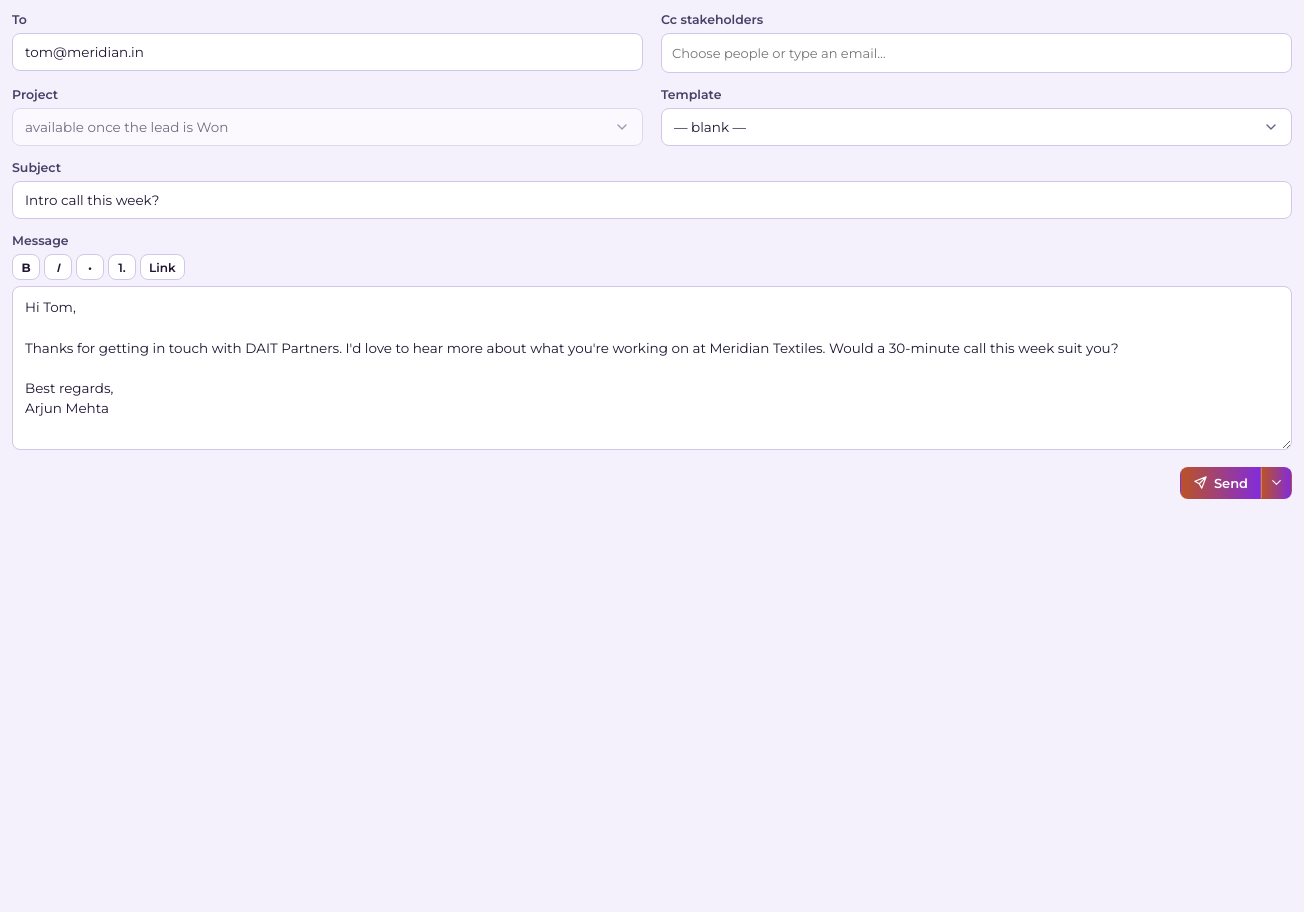
Test: lead email form: the one send path (web-mail release 3) › lead page: a closed lead sends without the follow-up box
Click the button "Send": (1220, 483) [1180,467,1261,499]
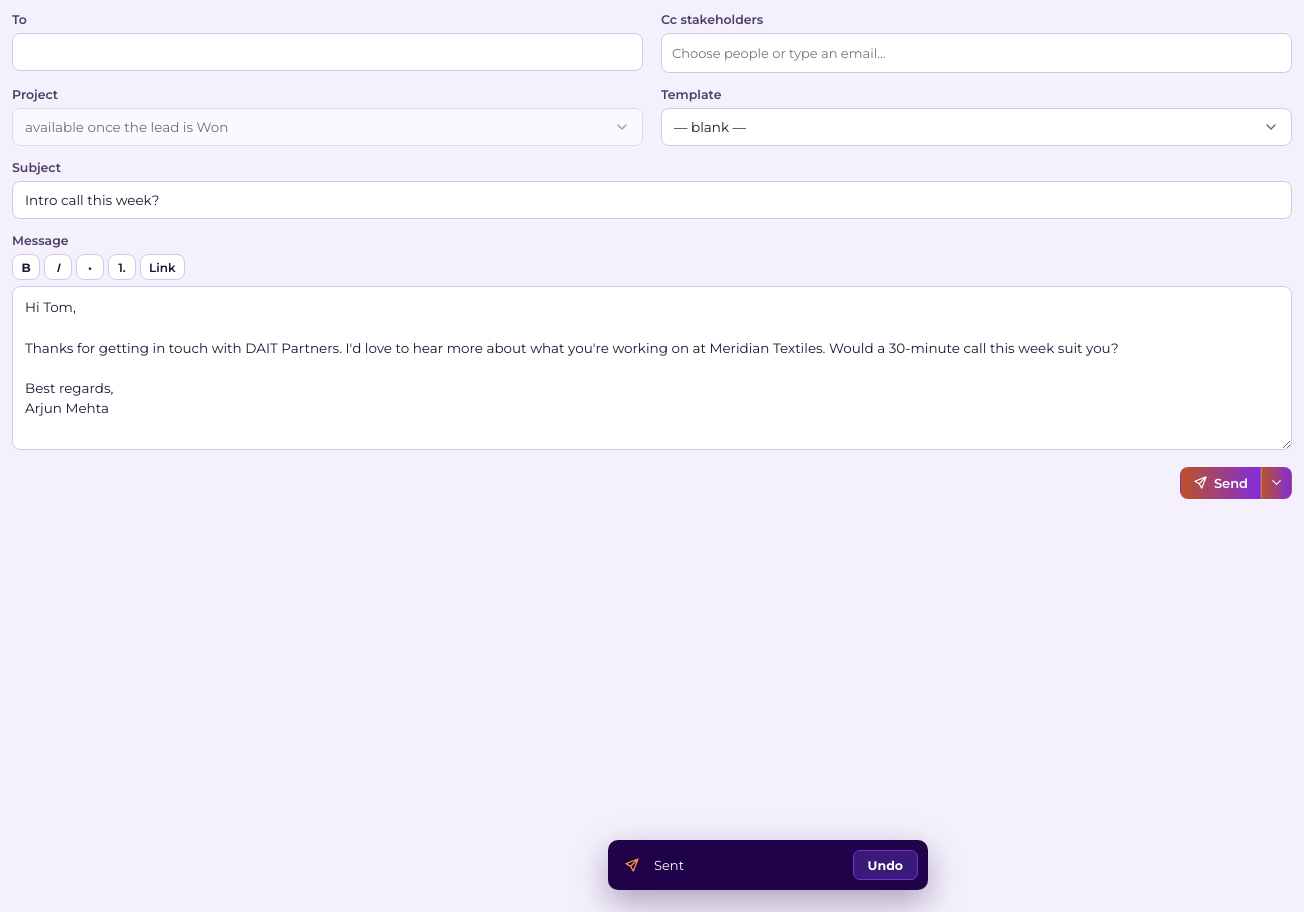
Check: the text "Sent" is shown, box [654,857,684,873]
